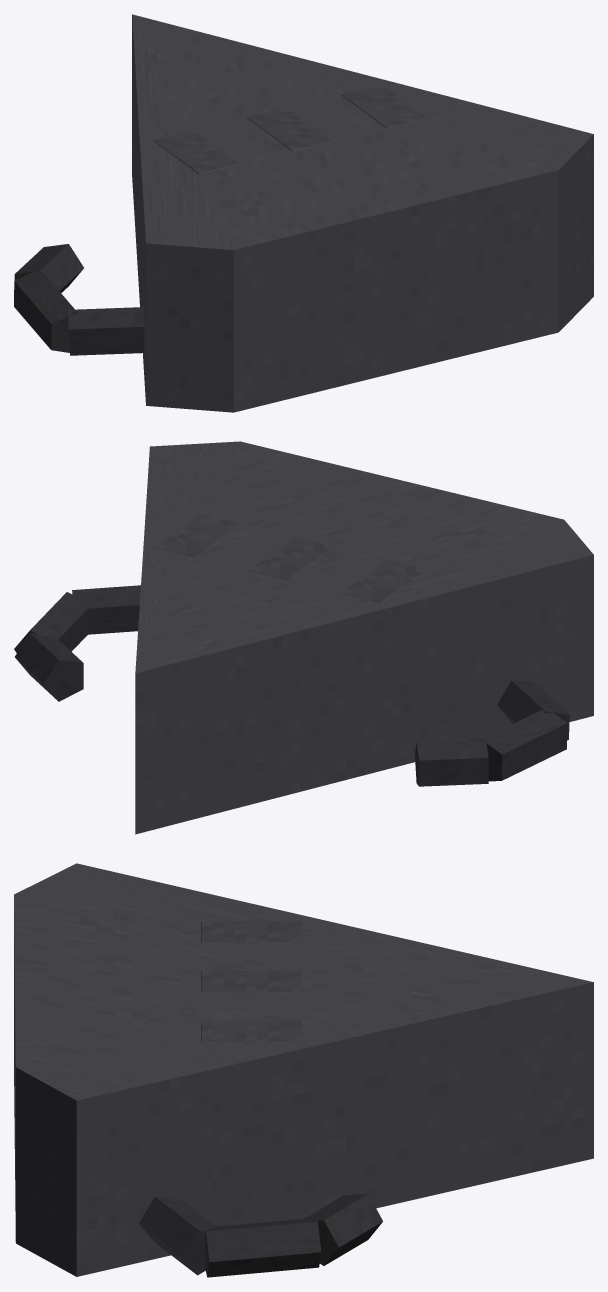
File: military_papr_blower_off.glb
3 views of the same model, one above another, from view 1: azimuth 30°, elevation 25°; view 2: azimuth 150°, elevation 25°; view 3: azimuth 270°, elevation 25° (orthographic). The views are drawn at different scales.
Parts seen in each view (by area): view 1: block_triangular back-mounted housing, block_vented module (×3), block_buckled strap 2, block_buckled strap 1, block_buckled strap 0; view 2: block_triangular back-mounted housing, block_buckled strap 0 (×2), block_buckled strap 1 (×2), block_vented module (×3), block_buckled strap 2 (×2); view 3: block_triangular back-mounted housing, block_vented module (×3), block_buckled strap 1, block_buckled strap 2, block_buckled strap 0.
Part boxes in pixels (x1,y1,x2,y2): block_triangular back-mounted housing: (132, 14, 593, 412); block_vented module (×3): (153, 84, 426, 174); block_buckled strap 2: (68, 307, 144, 355); block_buckled strap 1: (14, 269, 77, 352); block_buckled strap 0: (14, 244, 83, 292); block_triangular back-mounted housing: (135, 441, 593, 834); block_buckled strap 0 (×2): (15, 633, 488, 786); block_buckled strap 1 (×2): (14, 592, 567, 781); block_vented module (×3): (155, 514, 426, 602); block_buckled strap 2 (×2): (72, 585, 569, 740); block_triangular back-mounted housing: (14, 863, 593, 1276); block_vented module (×3): (201, 921, 301, 1042); block_buckled strap 1: (205, 1218, 321, 1277); block_buckled strap 2: (139, 1196, 216, 1275); block_buckled strap 0: (304, 1194, 382, 1265).
Size of the model in its own units: 0.3231 by 0.0968 by 0.2873.
1 material, 1 textured.
